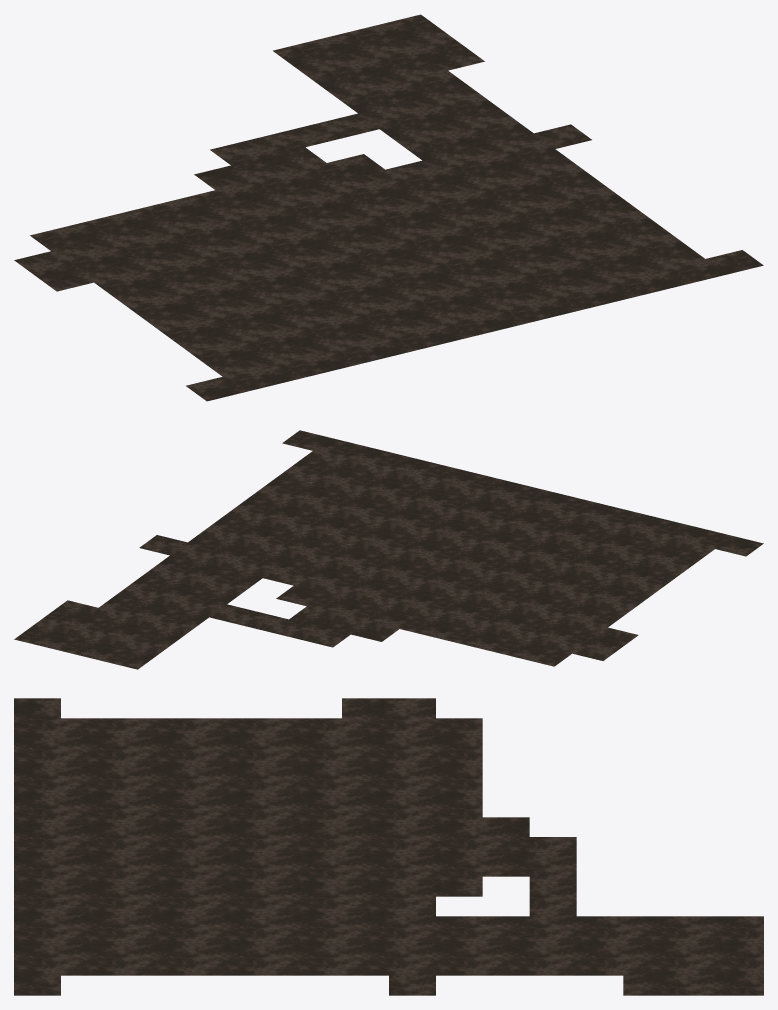
Rendered from floor_-1_-10.glb.
The picture shows the model from 3 angles, top to bottom: view 1: azimuth 30°, elevation 25°; view 2: azimuth 150°, elevation 25°; view 3: azimuth 270°, elevation 25°; orthographic projection. The views are drawn at different scales.
Parts seen in each view (by area): view 1: floor_-1_-10; view 2: floor_-1_-10; view 3: floor_-1_-10.
Boxes of the visible parts, x1,y1,x2,y2 form: floor_-1_-10: (14, 14, 763, 401); floor_-1_-10: (14, 430, 763, 669); floor_-1_-10: (14, 698, 763, 995).
Size of the model in its own units: 60 by 0 by 64.
Materials: 1 (1 with a texture image).
